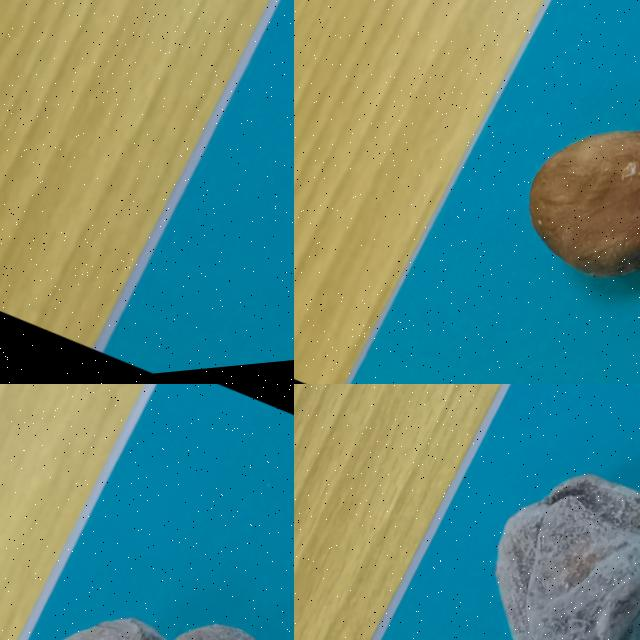Agglomerated_cocoabeans: (361, 384, 639, 639), (0, 473, 293, 639), (226, 0, 293, 345)
Fine_cocoabeans: (434, 7, 639, 383)
